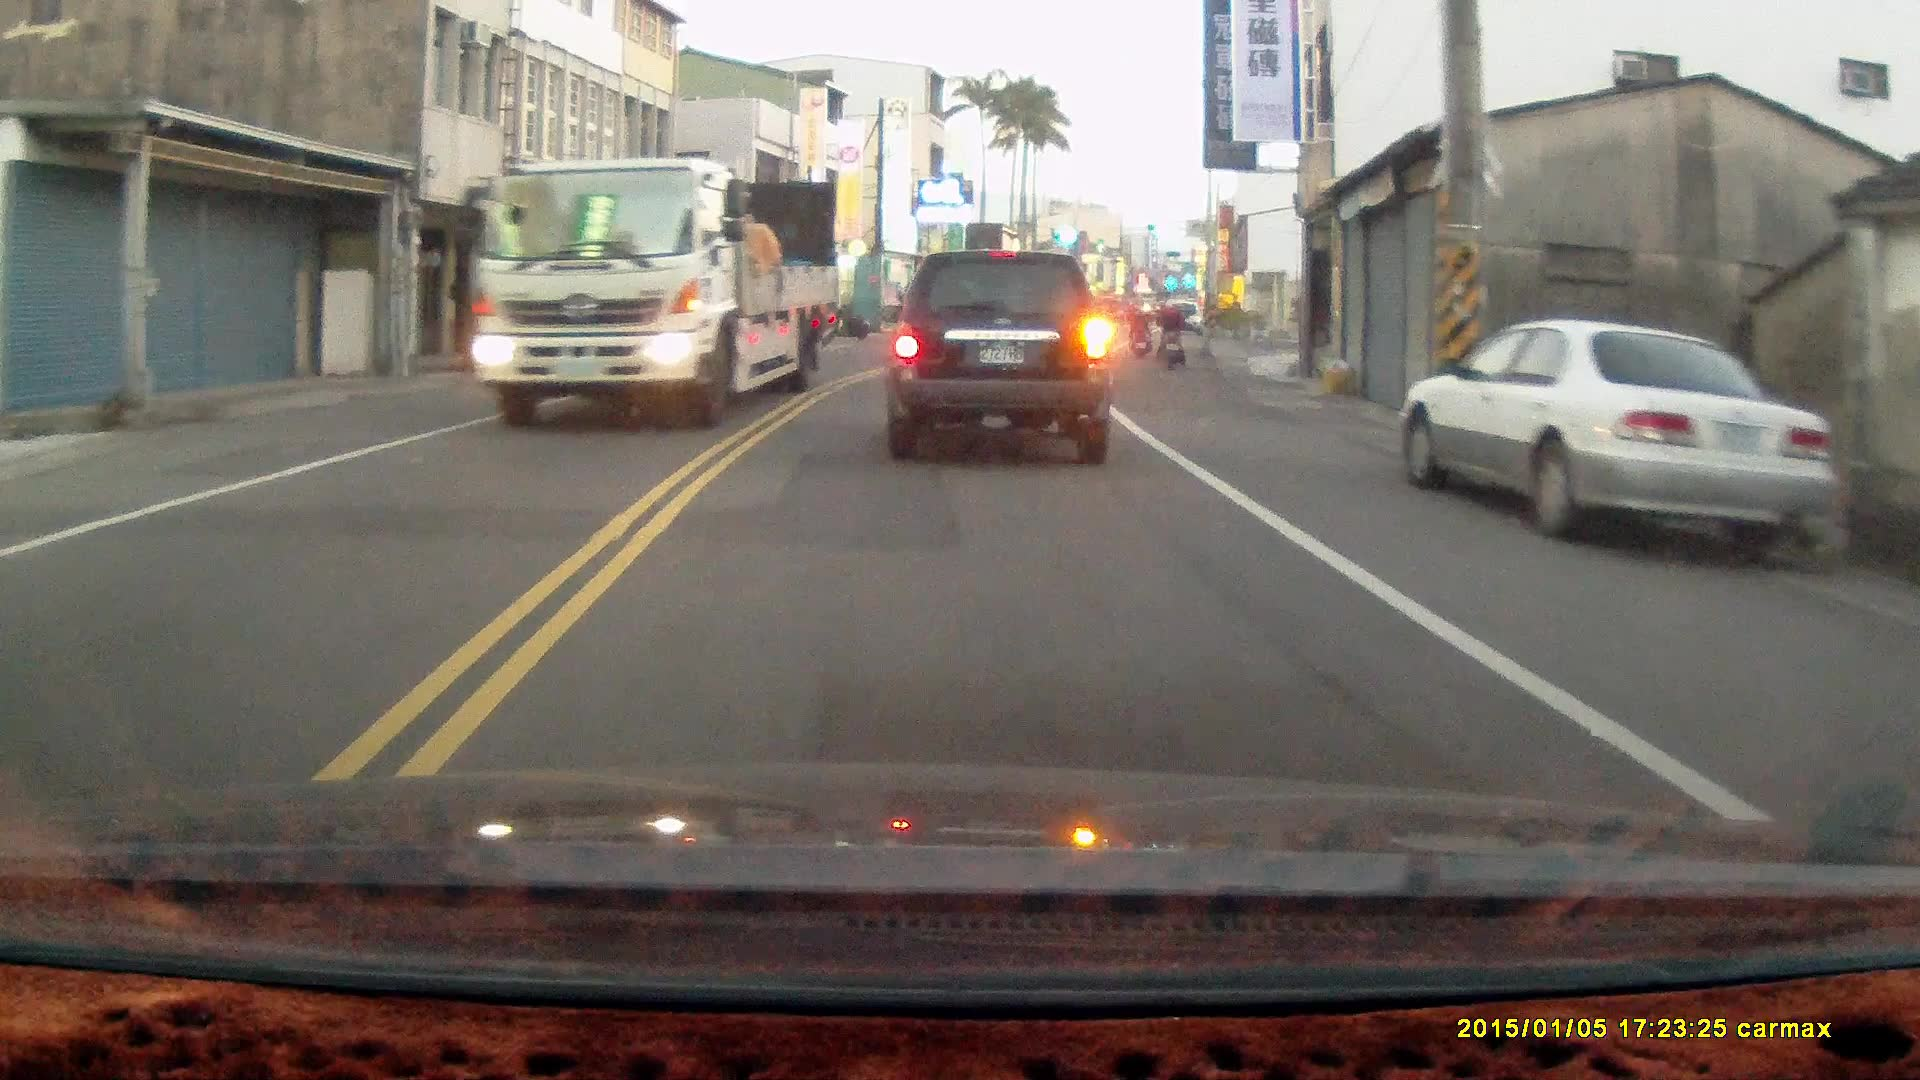rider: (1155, 293, 1186, 372), (1124, 297, 1148, 357)
vehicle: (1399, 317, 1841, 570), (467, 161, 841, 417), (889, 246, 1118, 460)
